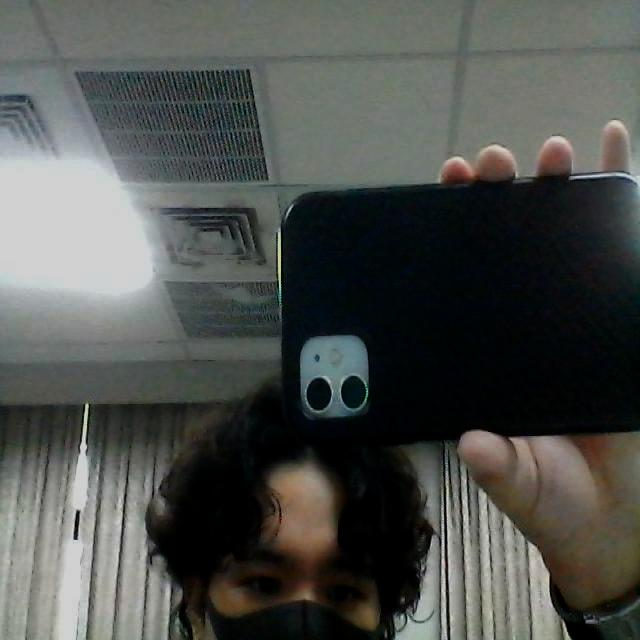phone: (275, 170, 640, 454)
